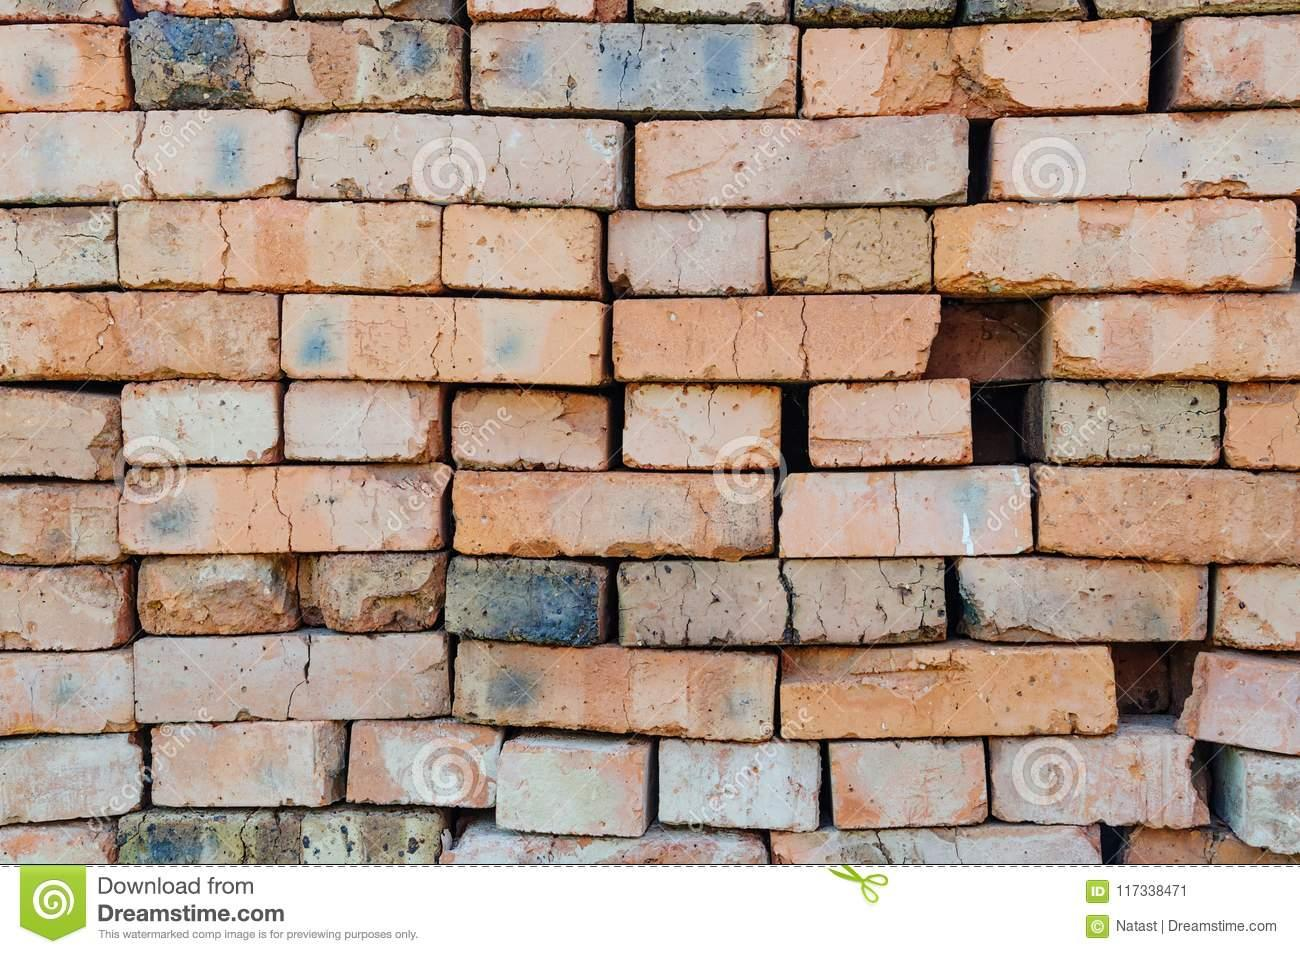brick: (802, 17, 1150, 118), (935, 198, 1296, 295), (131, 11, 462, 109), (453, 641, 777, 741), (780, 646, 1117, 739), (635, 113, 969, 206), (470, 20, 798, 114), (120, 463, 449, 554), (299, 113, 623, 205), (117, 200, 439, 292), (135, 631, 450, 722), (619, 557, 947, 644), (613, 295, 942, 381), (453, 470, 772, 558), (283, 295, 604, 382), (990, 107, 1300, 197), (0, 109, 297, 202), (1037, 463, 1300, 563), (1, 292, 281, 380), (778, 465, 1033, 557), (1049, 290, 1300, 381), (958, 557, 1208, 642), (989, 735, 1210, 829), (151, 721, 345, 807), (660, 739, 822, 832), (445, 555, 607, 645), (830, 739, 988, 830), (810, 379, 972, 467), (498, 741, 647, 837), (1044, 383, 1218, 464), (441, 204, 601, 293), (769, 208, 931, 292), (609, 211, 765, 296), (623, 385, 779, 469), (345, 723, 503, 806), (1176, 651, 1299, 755), (121, 383, 278, 464), (285, 383, 443, 461), (0, 735, 141, 823), (453, 391, 606, 470), (138, 556, 296, 633), (1175, 13, 1299, 105), (299, 554, 446, 631), (0, 565, 131, 651), (0, 651, 135, 734), (0, 388, 123, 479), (0, 24, 127, 112), (0, 207, 118, 288), (0, 485, 120, 563)
